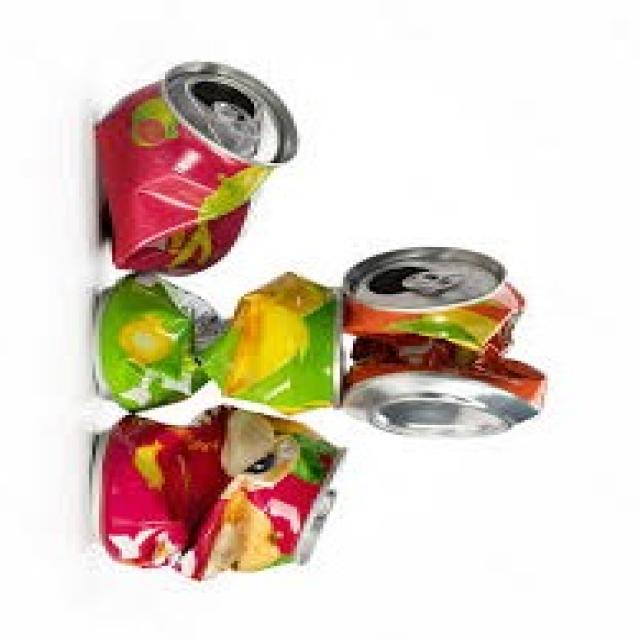Metal: (92, 404, 363, 579), (92, 64, 302, 277), (323, 245, 542, 436), (90, 267, 344, 402)
